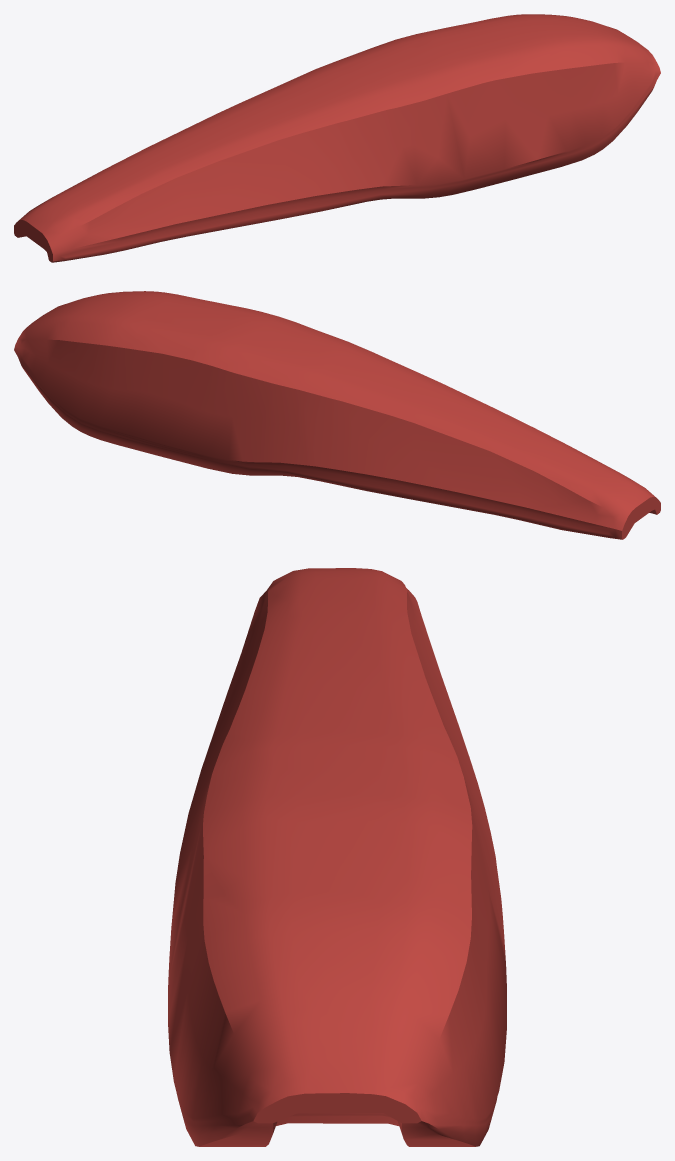
File: bobber_5_lod2.glb
3 views of the same model, one above another, from view 1: azimuth 30°, elevation 25°; view 2: azimuth 150°, elevation 25°; view 3: azimuth 270°, elevation 25° (orthographic). The views are drawn at different scales.
Parts seen in each view (by area): view 1: bobber_5_lod2; view 2: bobber_5_lod2; view 3: bobber_5_lod2.
Part boxes in pixels (box(x1,y1,x2,y2)): bobber_5_lod2: box(14, 14, 660, 262); bobber_5_lod2: box(14, 291, 660, 539); bobber_5_lod2: box(168, 568, 506, 1146).
Bounding box in the file's own units: 1.06 × 0.1876 × 0.258.
